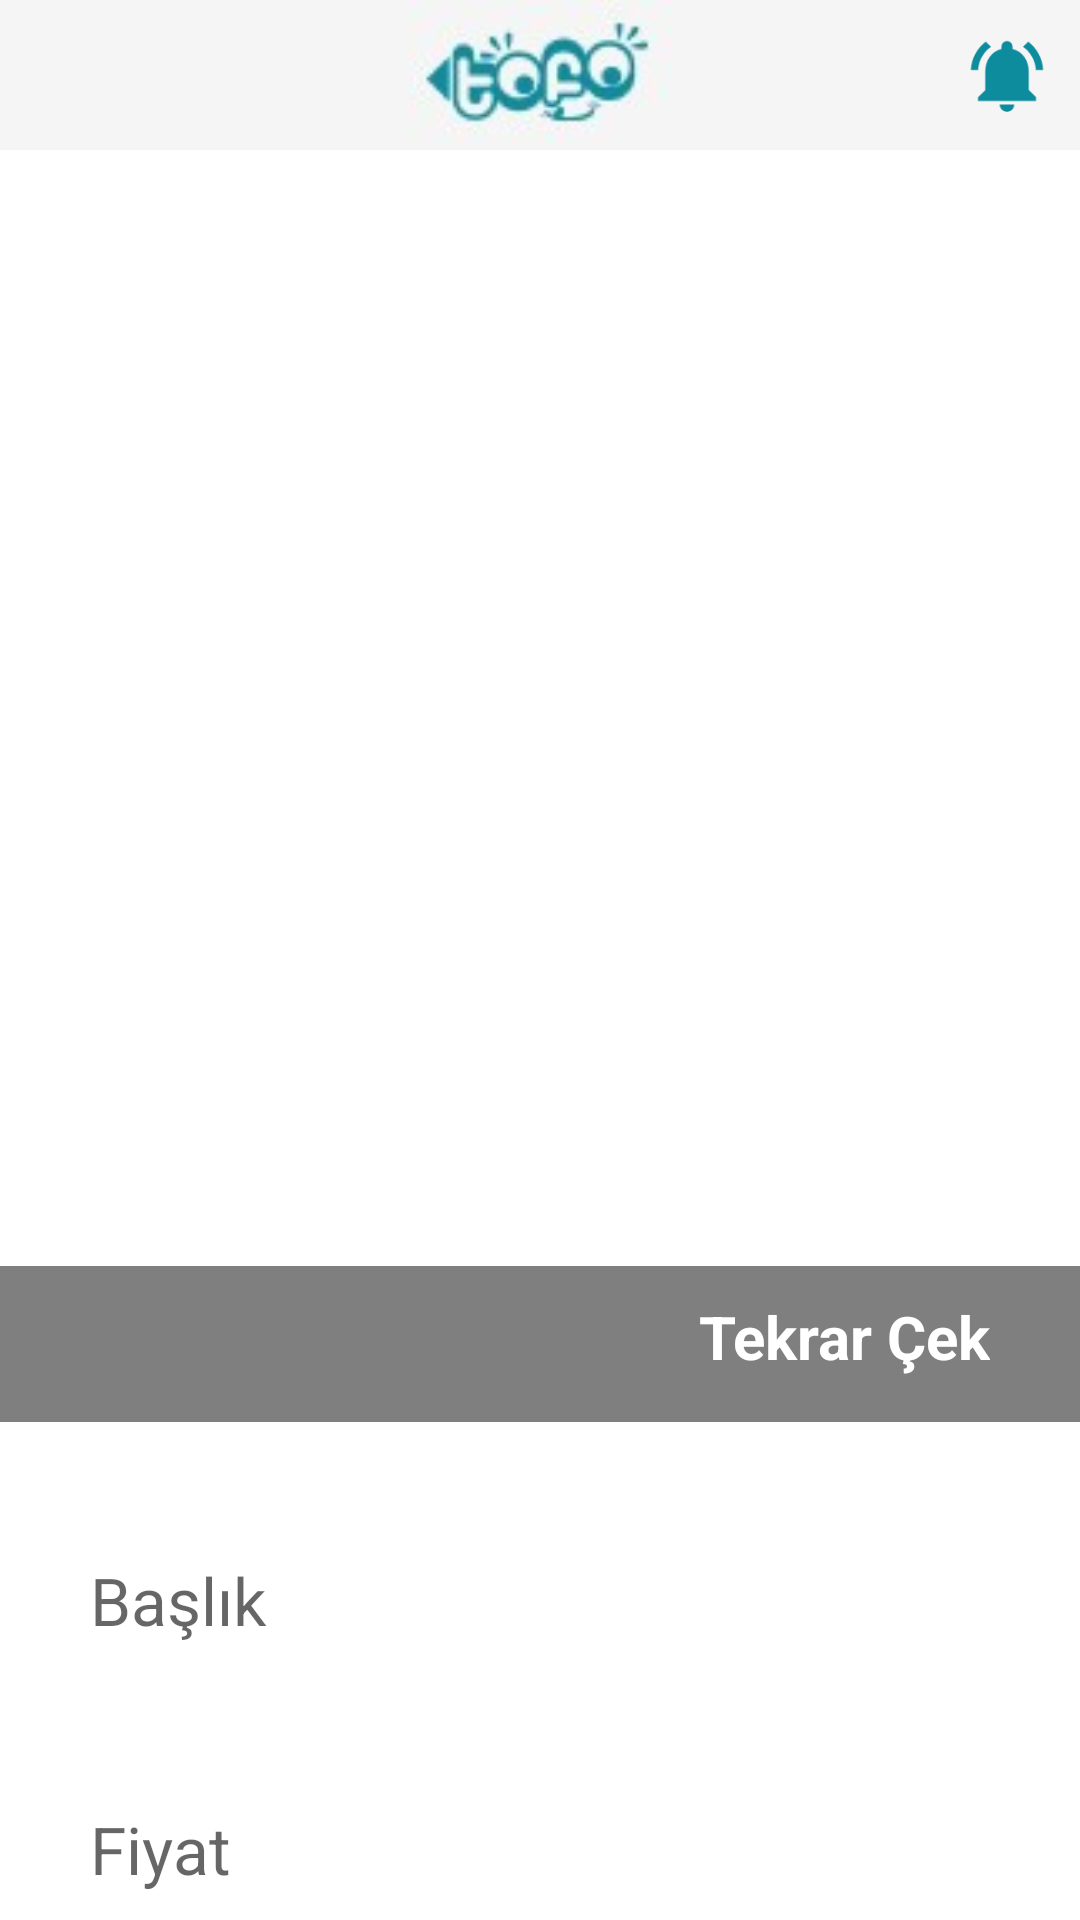

Icon click points for this 1080w x 1920h phone screenshot, format (x=x, y=y):
anasayfa bildirim: (x=1007, y=76)
